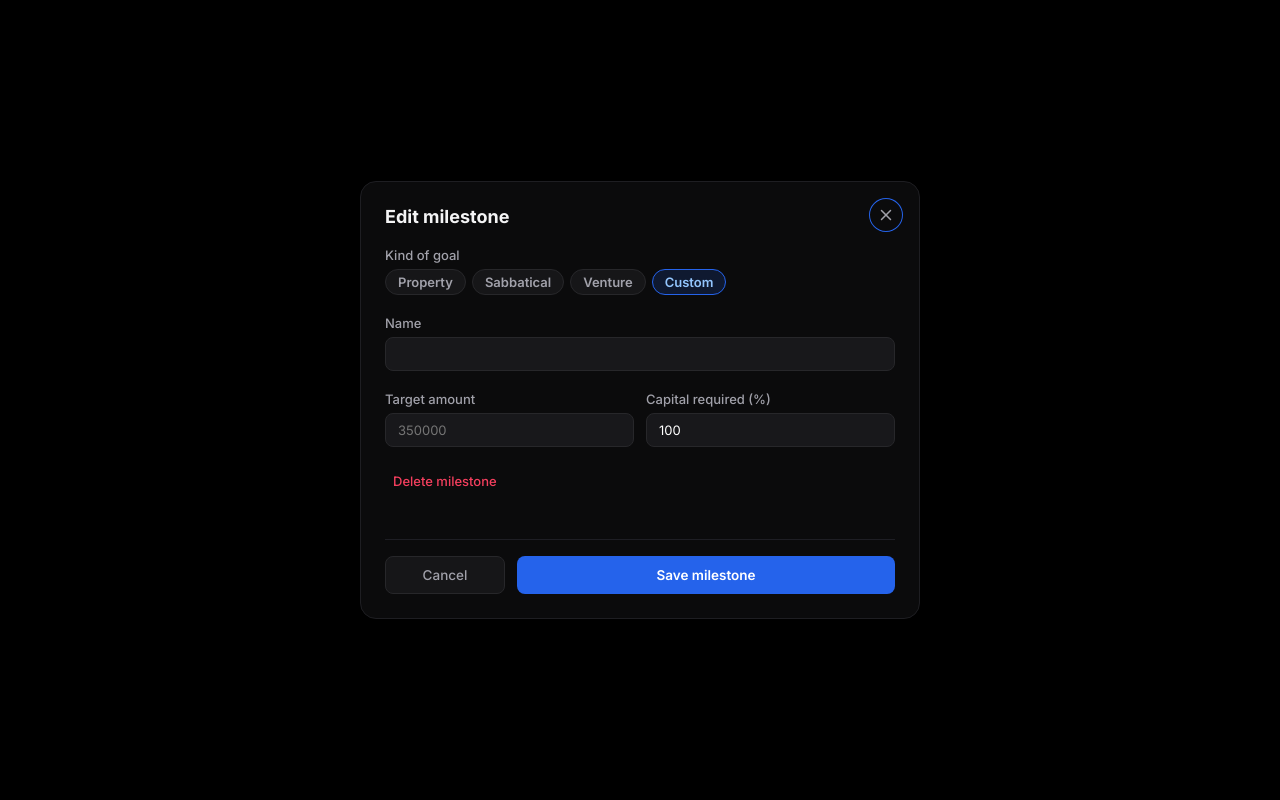
it: CapitalMilestoneEditor layout › asks before deleting
The width and height of the screenshot is (1280, 800).
Click the button "Delete milestone": (445, 481) [385,467,505,495]
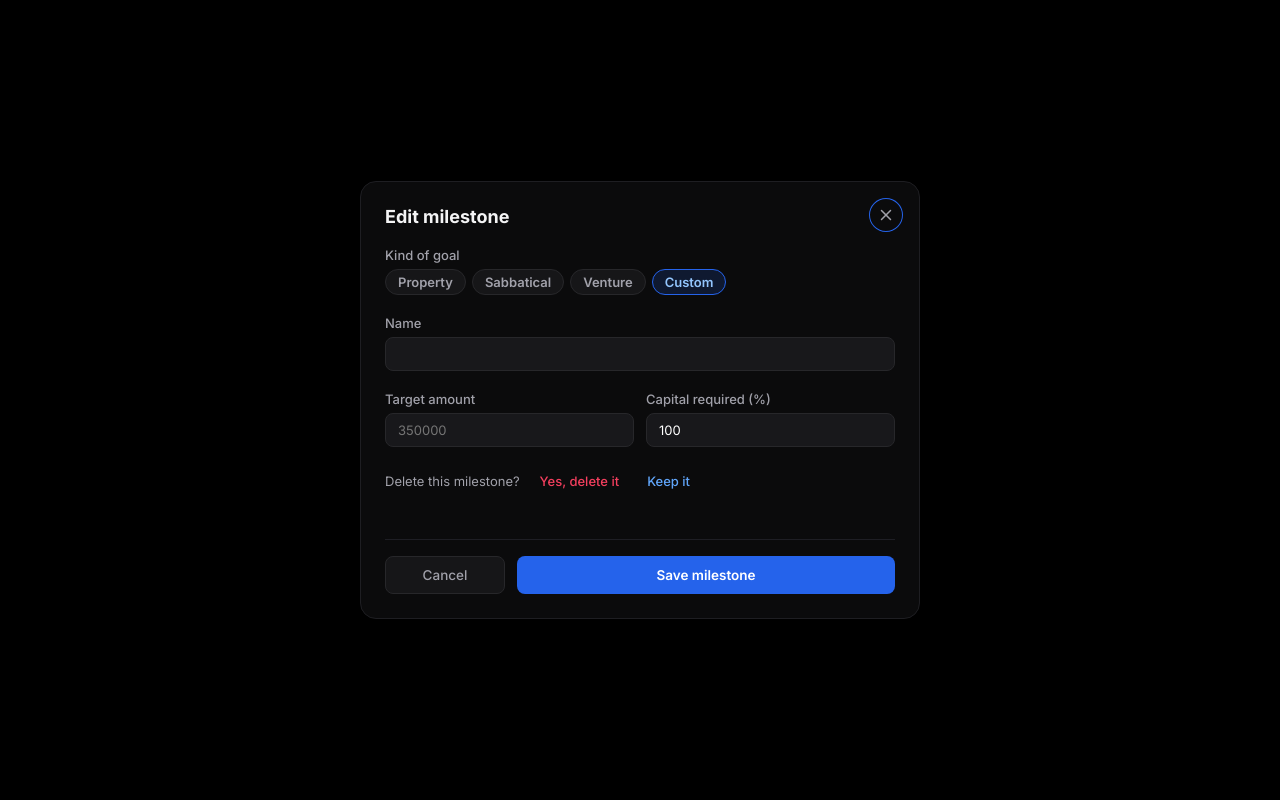
Expected: the element named "Confirm delete" is shown, [385,467,698,495]
